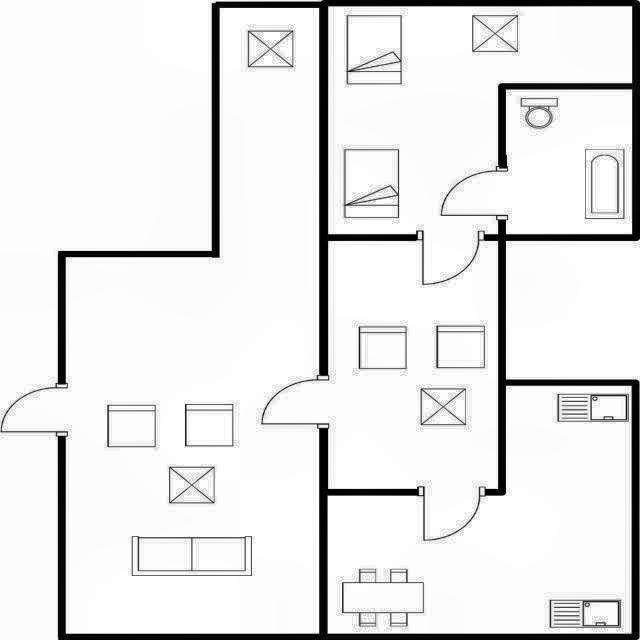room: (66, 8, 319, 634), (327, 386, 632, 634), (328, 6, 632, 234), (328, 241, 498, 489), (506, 90, 632, 234)
